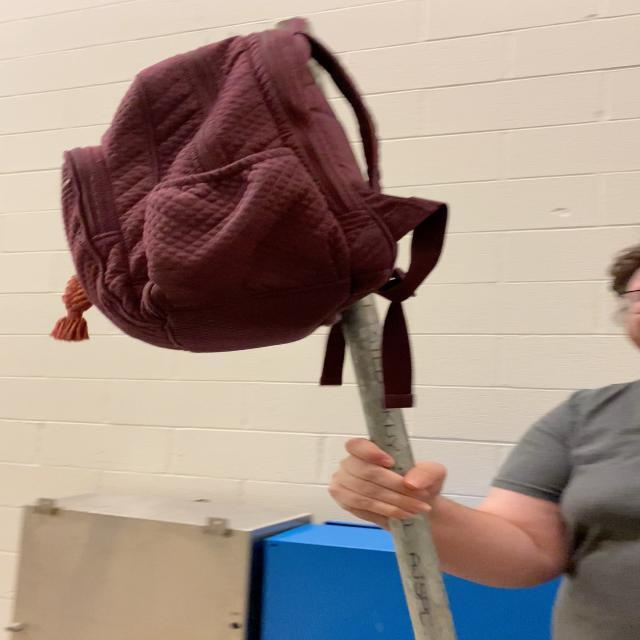Backpacks: (49, 22, 399, 356)
